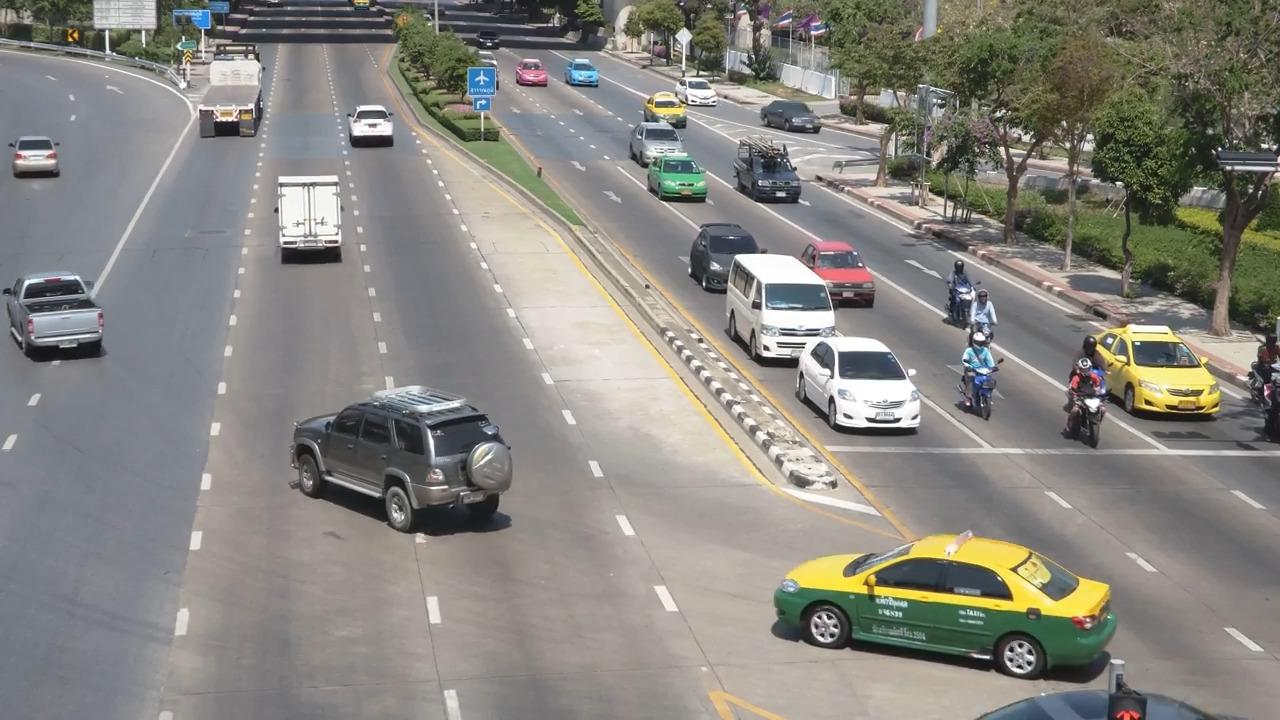CAR: (763, 500, 1139, 679), (285, 370, 524, 545), (1095, 315, 1231, 426), (792, 326, 930, 433), (726, 247, 837, 361), (3, 262, 115, 365), (265, 167, 362, 274), (803, 230, 885, 306), (687, 213, 757, 290), (735, 135, 805, 207), (642, 153, 716, 203), (340, 99, 404, 150), (762, 92, 830, 138), (9, 127, 68, 177), (626, 117, 684, 154), (640, 87, 694, 125), (675, 70, 725, 107), (510, 50, 555, 87), (567, 56, 601, 88), (475, 22, 506, 50)
HGV_BUS: (195, 39, 272, 146)
MOTOR: (1058, 343, 1112, 459), (950, 329, 1012, 416), (1243, 313, 1280, 454), (965, 285, 1005, 345), (945, 253, 974, 314)
